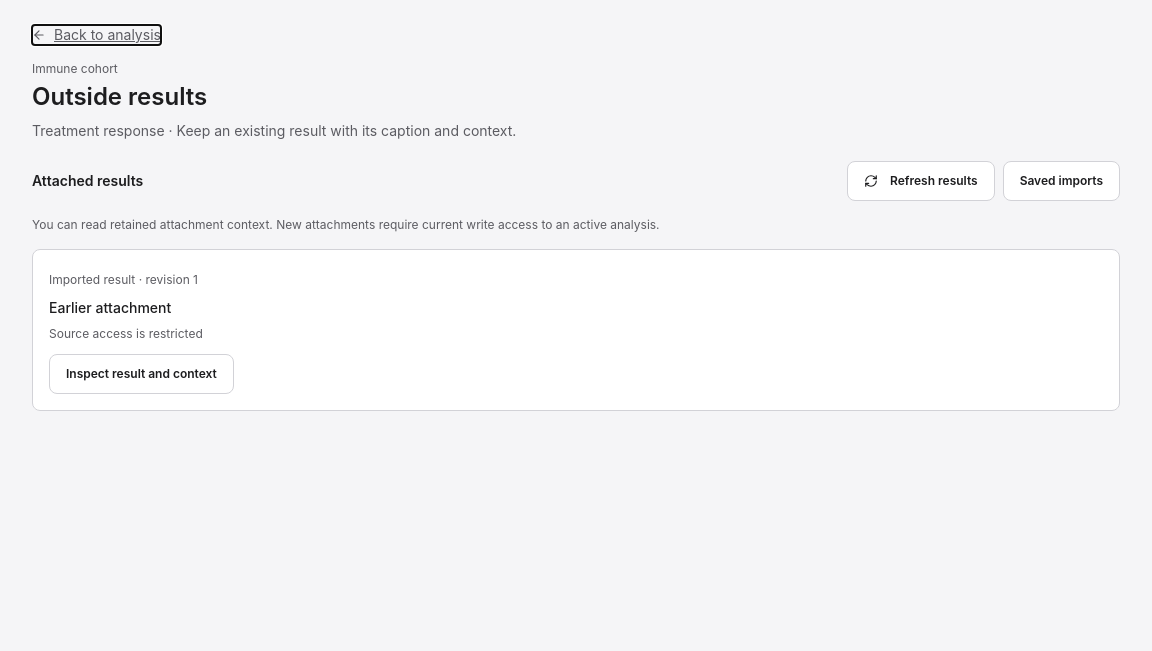
retains imported caption and unknown supplied context for a restricted source without requesting a preview
The width and height of the screenshot is (1152, 651).
Click the button "Inspect result and context": (141, 374) [49,354,234,394]
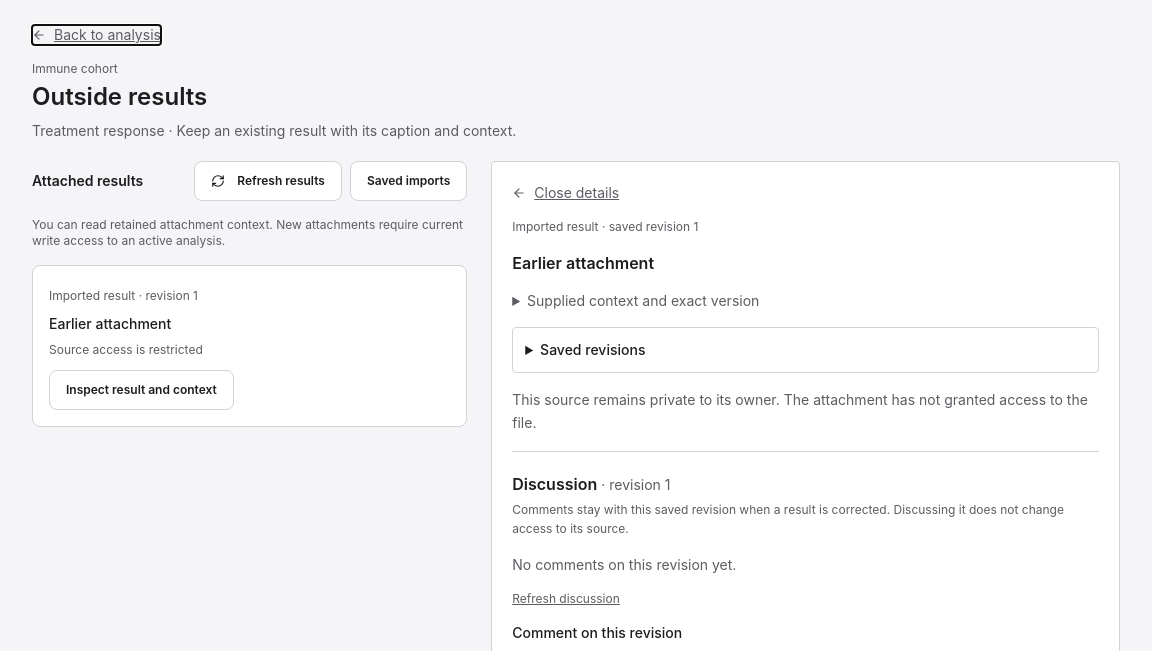
Expected: the heading "Earlier attachment" is shown, [512,253,654,273]
Click the heading "Supplied context and exact version": (643, 300) [527,292,759,309]
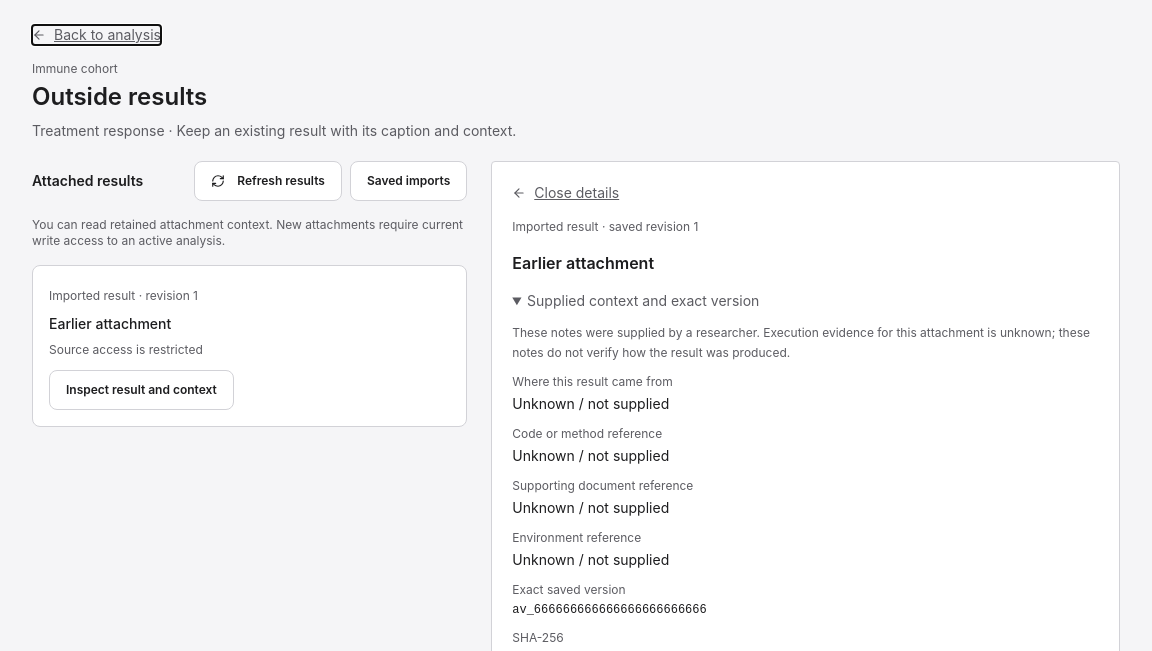
Expected: the text "Execution evidence for this attachment is unknown" is shown, [512,325,1090,360]
Expected: the text "Unknown / not supplied" is shown 4 times, [512,395,669,412]; [512,447,669,464]; [512,499,669,516]; [512,551,669,568]
